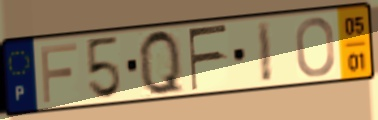5: (83, 34, 124, 102)
F: (186, 22, 231, 94), (38, 40, 80, 105)
I: (255, 19, 275, 86)
O: (293, 15, 337, 79)
Q: (136, 27, 187, 99)
